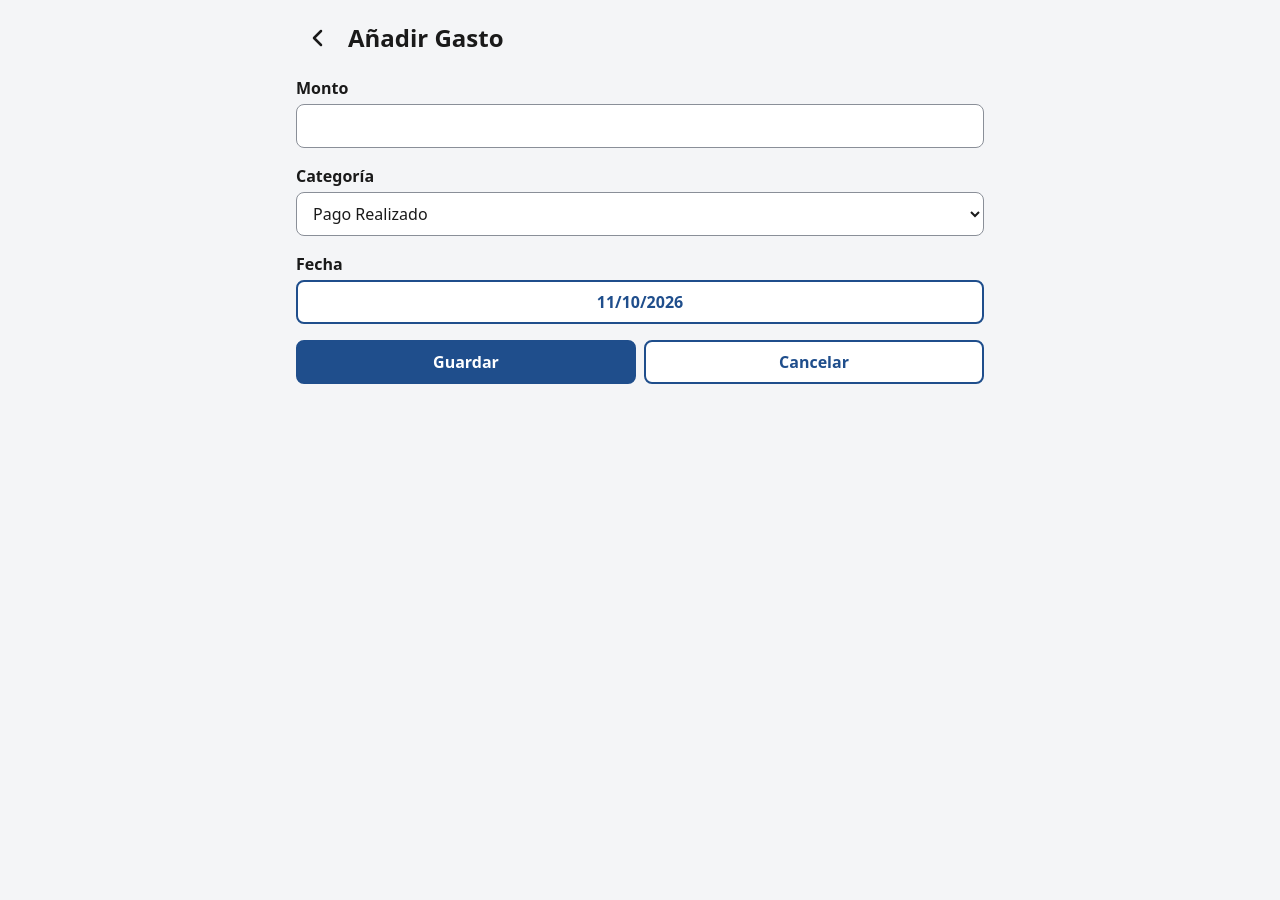
FormularioMovimiento en modo alta › con monto "0,00" muestra "El monto debe ser mayor a 0." y no guarda (AC-45)
Type "0,00" into the field labelled "Monto".
click(640, 126); type("0,00")  # box [296,104,984,148]
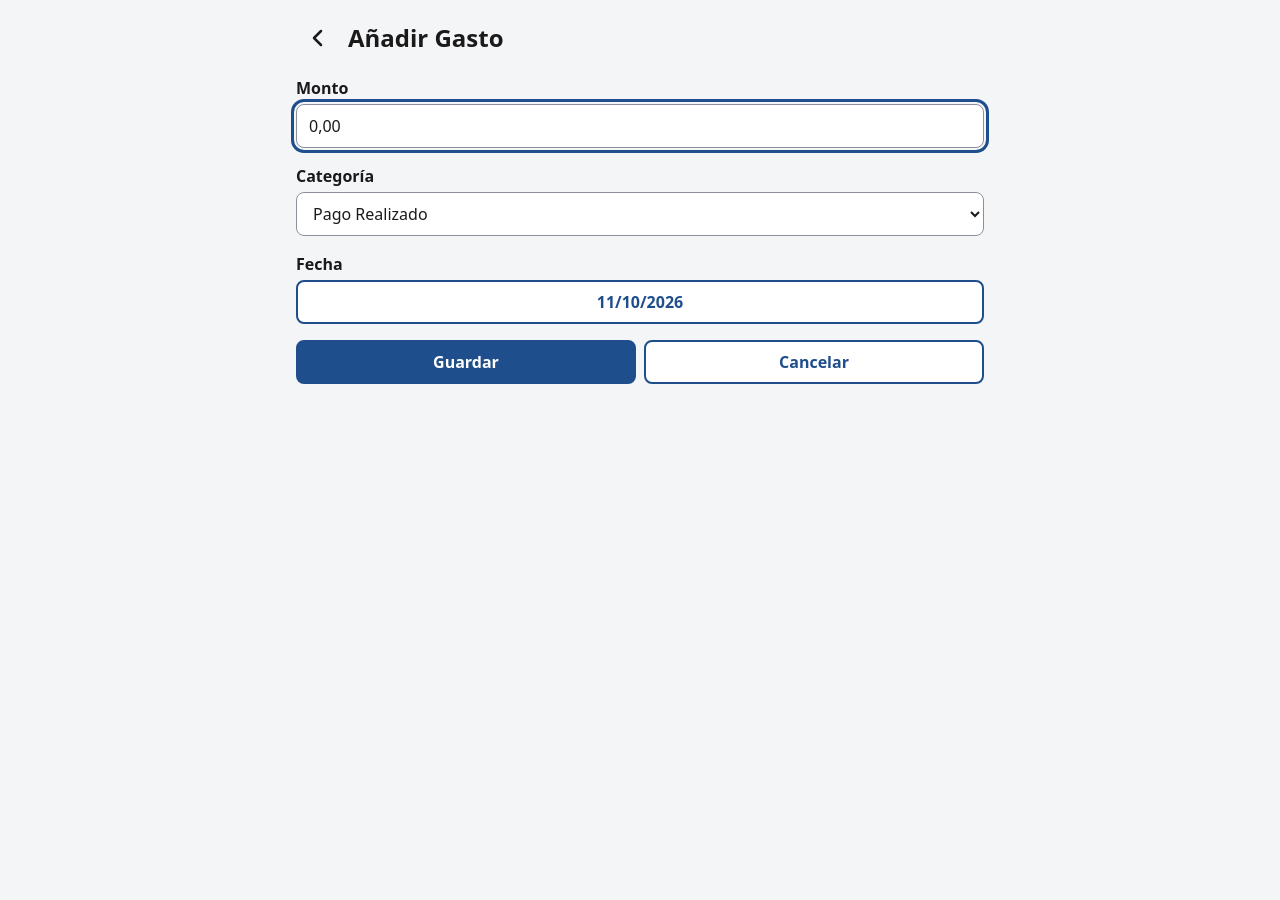
Click the button "Guardar".
click(466, 362)  # box [296,340,636,384]
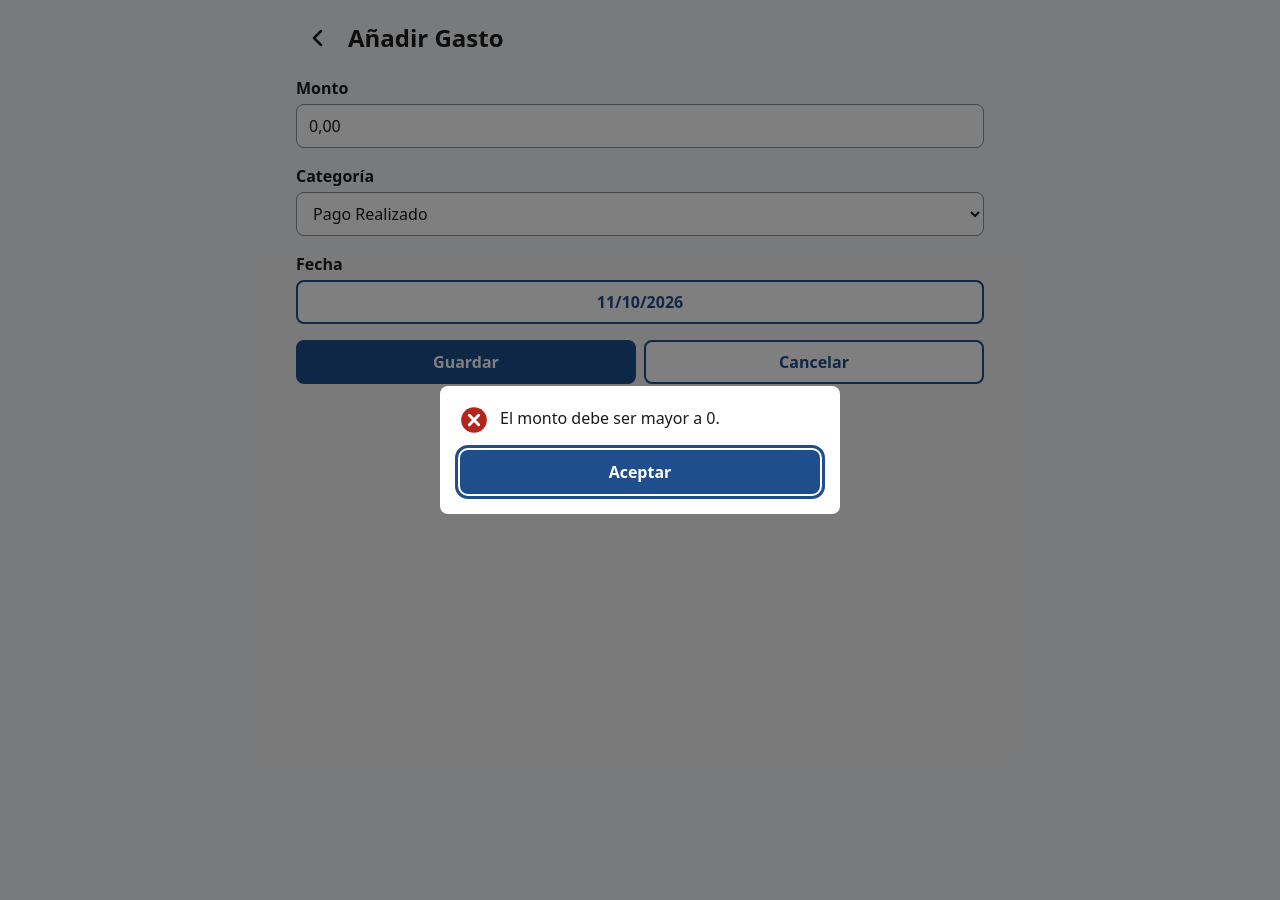
Expected: the text "El monto debe ser mayor a 0." is shown, [500,406,720,430]
Expected: the picture named "Error" is shown, [460,406,488,434]
